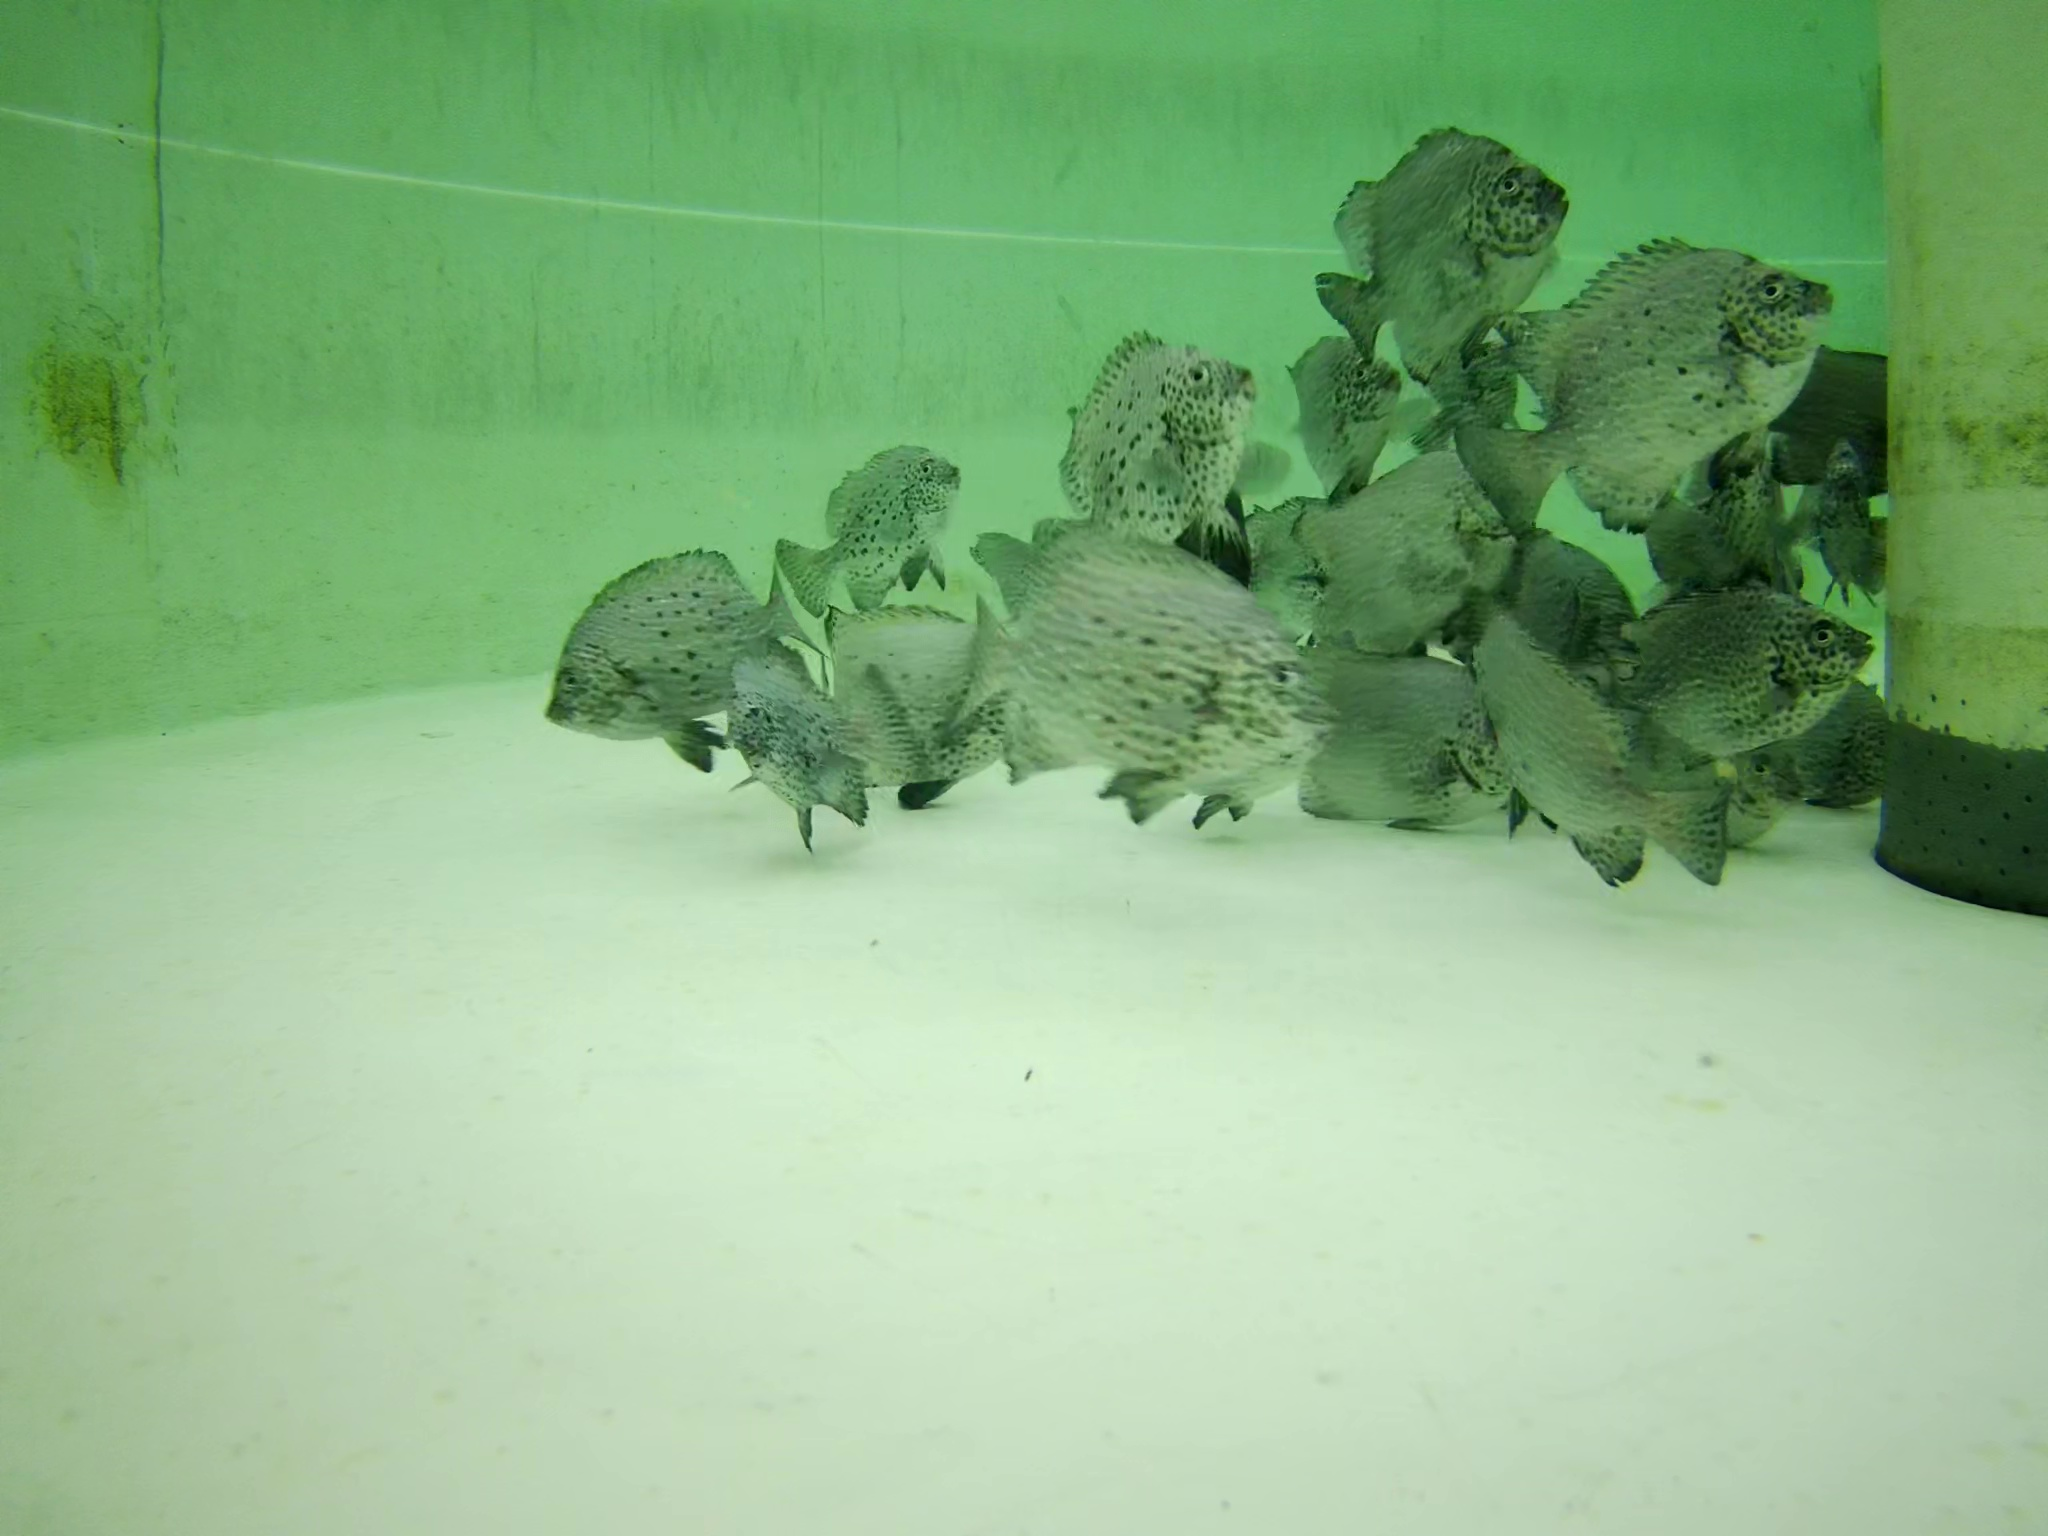fish: (1445, 234, 1835, 541), (961, 510, 1330, 818), (1456, 592, 1735, 891), (543, 541, 803, 768), (1319, 132, 1556, 361), (805, 595, 1021, 818), (1055, 319, 1253, 558), (1608, 591, 1880, 747), (719, 639, 922, 842), (1321, 447, 1517, 629), (758, 447, 961, 595), (1748, 660, 1900, 803), (1285, 331, 1395, 507), (1634, 479, 1769, 587), (1237, 495, 1342, 621), (1709, 444, 1800, 578), (1816, 429, 1887, 574)
